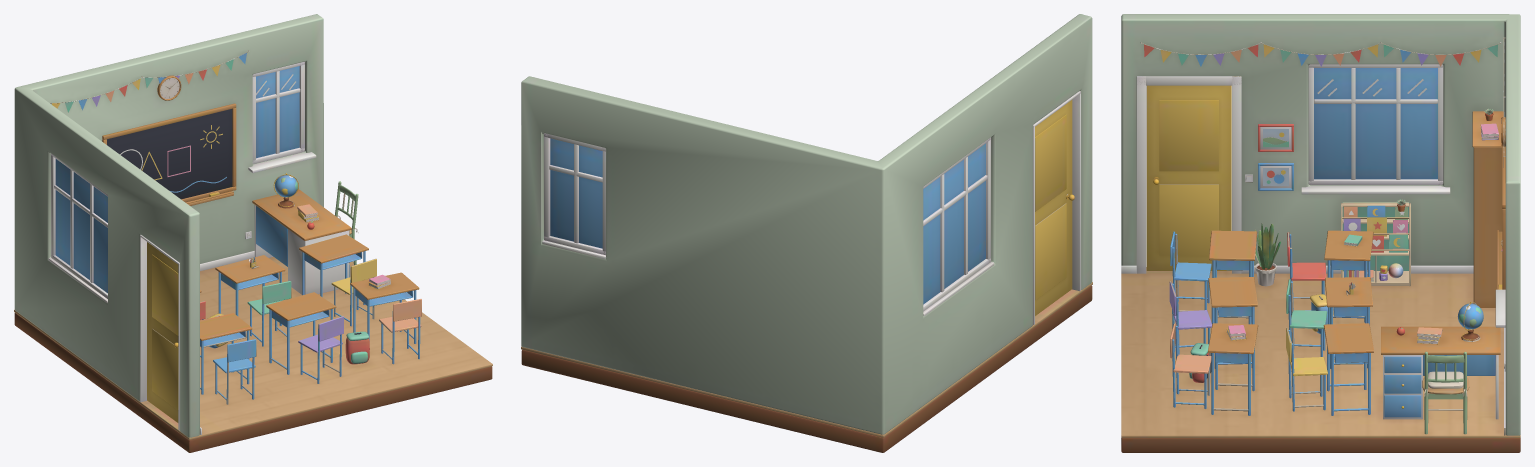
File: classroom.glb
3 renders of one model, left to right at view 1: azimuth 30°, elevation 25°; view 2: azimuth 150°, elevation 25°; view 3: azimuth 270°, elevation 25°, orthographic. The views are drawn at different scales.
Parts seen in each view (by area): view 1: classroom_body, classroom_chalkboard_drawing_display; view 2: classroom_body; view 3: classroom_body.
Part boxes in pixels (left/top/right/bottom): classroom_body: left=14, top=14, right=492, bottom=452; classroom_chalkboard_drawing_display: left=120, top=125, right=226, bottom=192; classroom_body: left=521, top=14, right=1092, bottom=452; classroom_body: left=1121, top=14, right=1520, bottom=452.
Bounding box in the file's own units: 4 × 3 × 4.
Materials: 5 (1 with a texture image).
